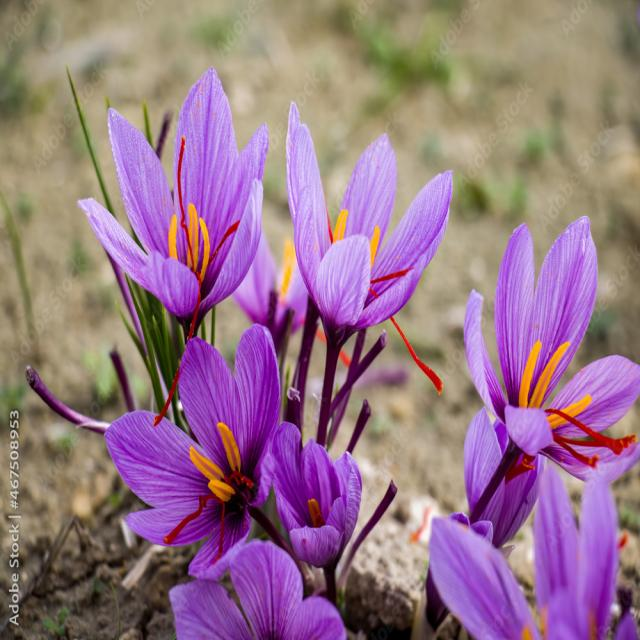saffron open: (465, 217, 640, 523), (77, 67, 269, 325), (105, 324, 280, 577), (286, 103, 452, 347), (170, 540, 346, 639), (272, 422, 361, 603), (480, 454, 545, 547), (465, 407, 508, 512)
